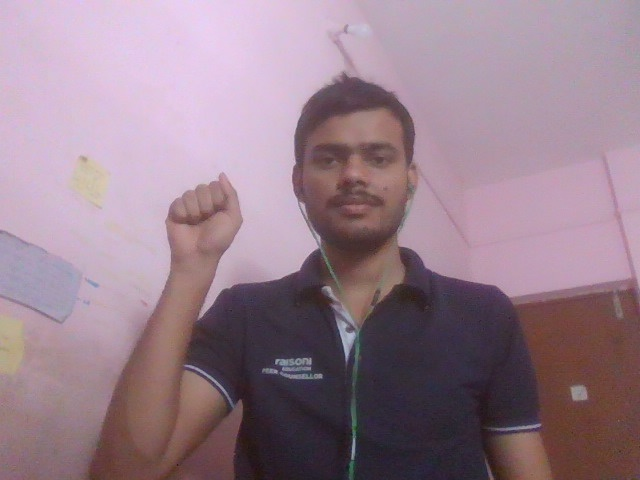Yes: (127, 121, 331, 345)
